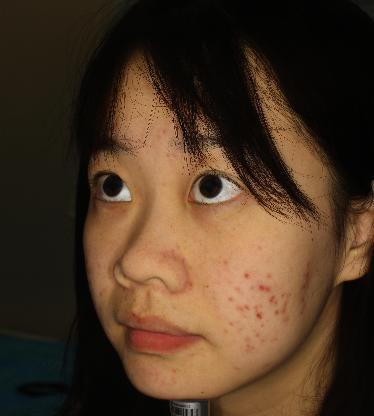Nodules: (255, 279, 274, 295), (265, 292, 281, 305), (269, 307, 284, 317), (241, 270, 254, 280), (255, 309, 265, 321)
acne scar: (239, 333, 258, 355), (238, 301, 257, 316), (223, 292, 237, 305), (226, 317, 239, 330), (232, 282, 245, 294), (253, 329, 264, 339)
